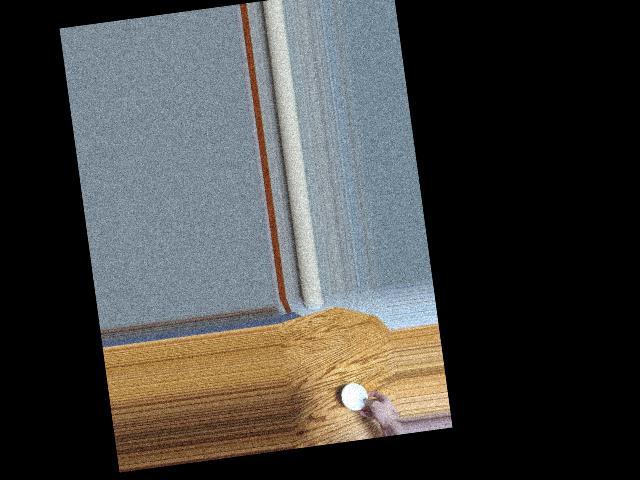cotage: (339, 380, 375, 418)
